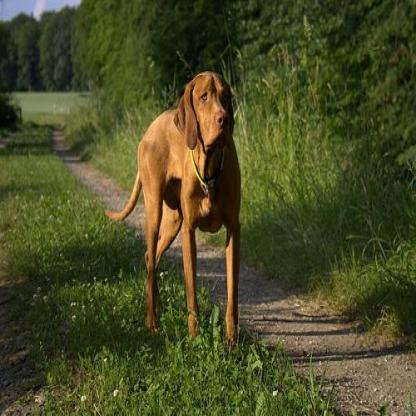vizsla: (96, 63, 248, 351)
